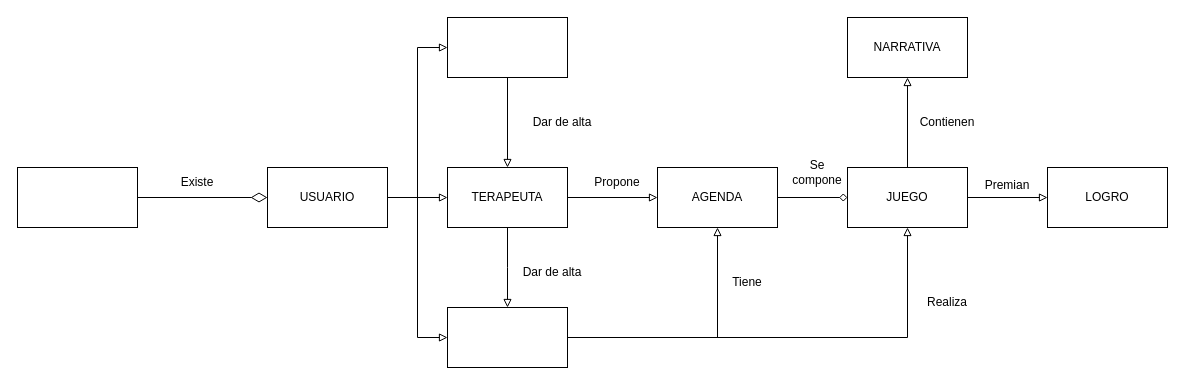
The diagram is 1185 pixels wide and 385 high, and some of its shapes have lost their labels. The shapes that lost their labels are listed below. From the top down, each one's centre as x and y in pixels, then its label:
the point at 507,47: ADMINISTRADOR
the point at 77,197: SISTEMA
the point at 507,337: PACIENTE
